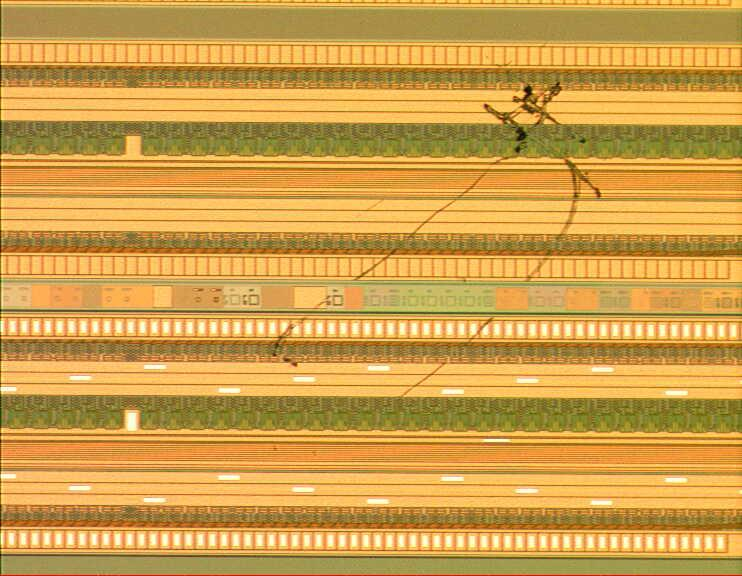SCRATCH: (260, 42, 613, 441)
